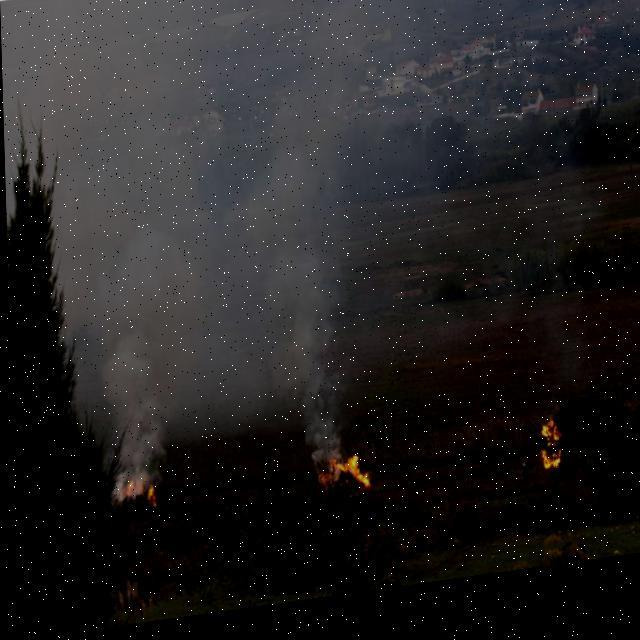Fire: (317, 458, 368, 506), (539, 428, 563, 487), (122, 475, 156, 513)
